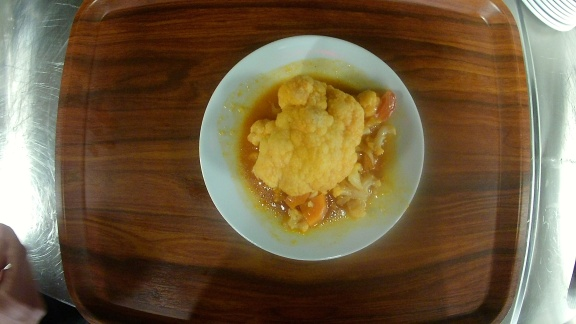karnibahar: (196, 34, 428, 262)
